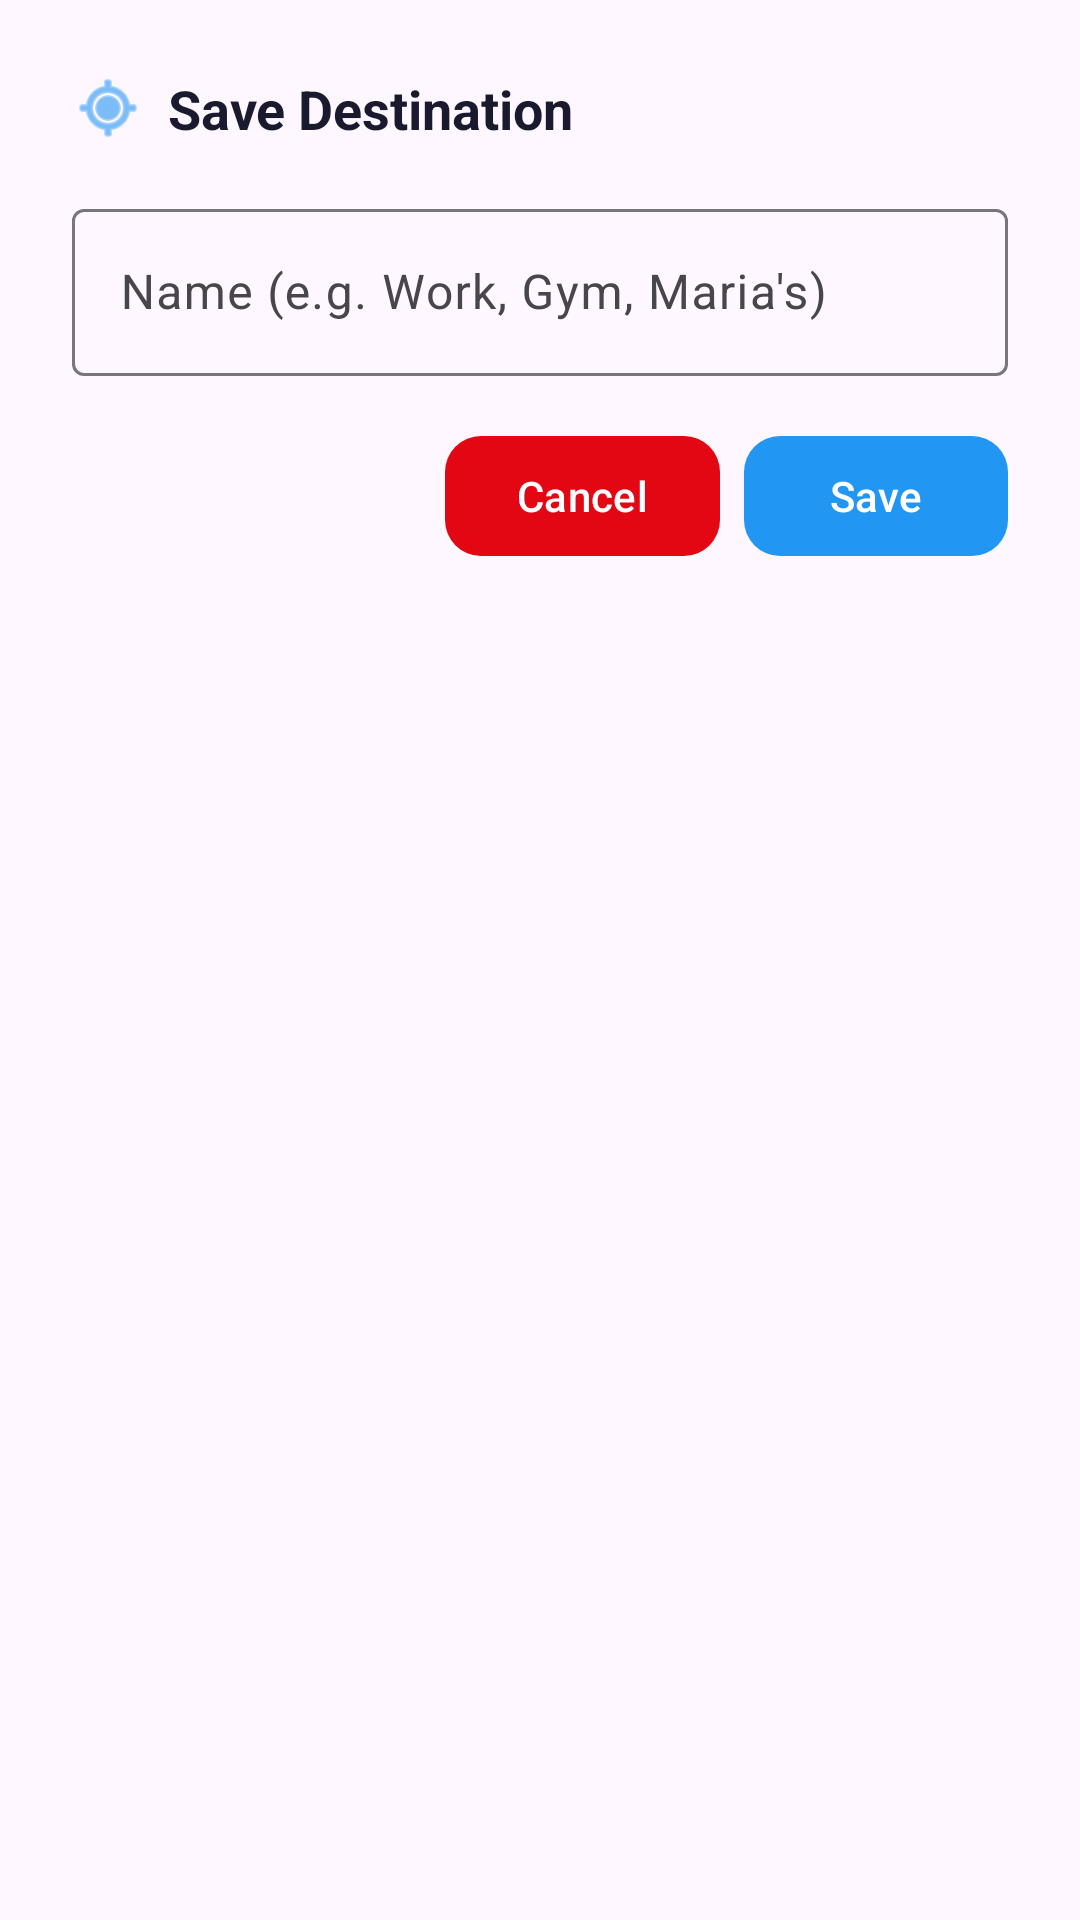

Where icons sit on this 1080x1920 app screen, as (x1, y1, x2, y2):
mylocation: (79, 79, 137, 137)
